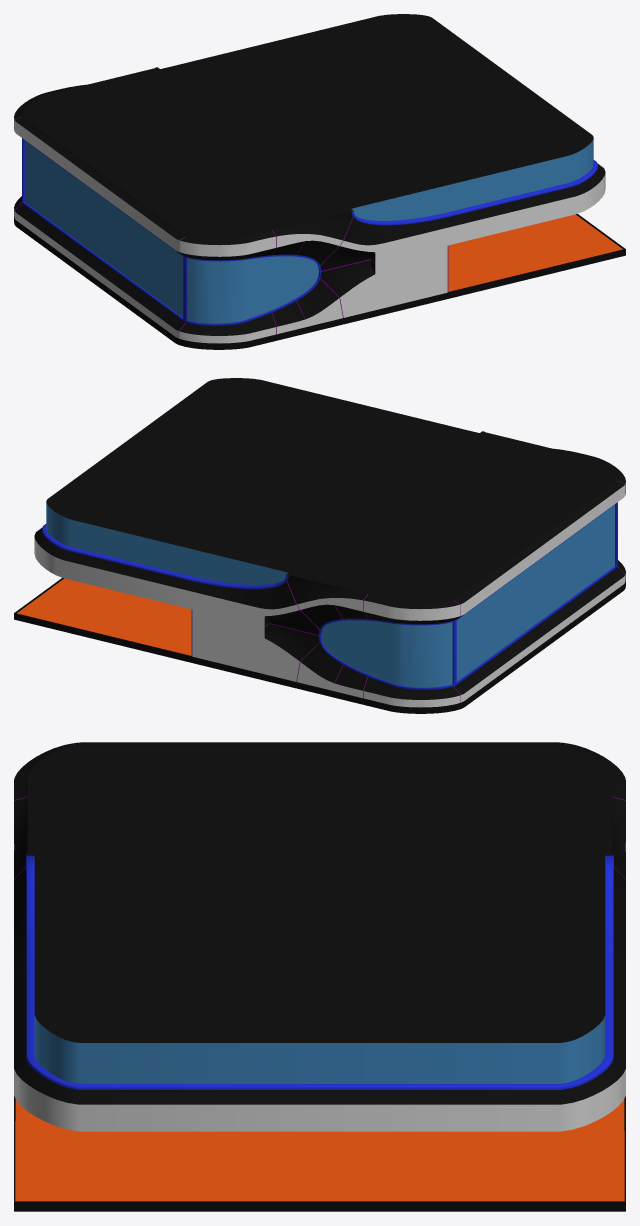
File: SM_Building_MK3_Base01.fbx
3 renders of one model, top to bottom at view 1: azimuth 30°, elevation 25°; view 2: azimuth 150°, elevation 25°; view 3: azimuth 270°, elevation 25°, orthographic. The views are drawn at different scales.
Visible parts, largest first — view 1: Down; view 2: Down; view 3: Down.
Boxes of the visible parts, <box> form: Down: <box>14,14,625,349</box>; Down: <box>14,378,625,713</box>; Down: <box>14,742,625,1211</box>.
Size of the model in its own units: 2090 by 500 by 1731.
